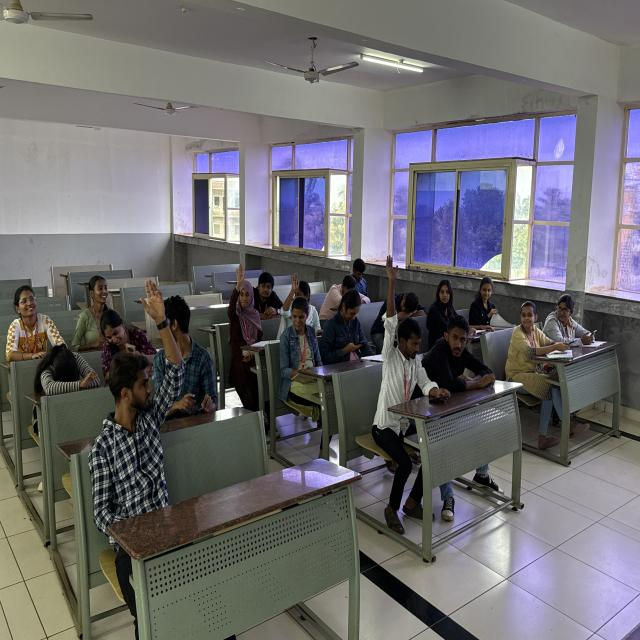Hand Rising: (372, 305, 422, 439), (228, 262, 266, 436), (282, 266, 324, 334)
Reading: (471, 280, 502, 331)
Sleeping: (30, 341, 100, 498)
Using Phone: (509, 294, 553, 403), (546, 287, 601, 356)
